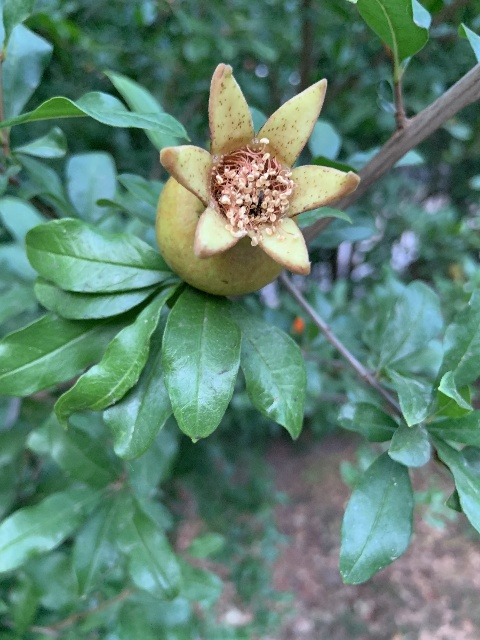early-fruit: (156, 61, 357, 297)
